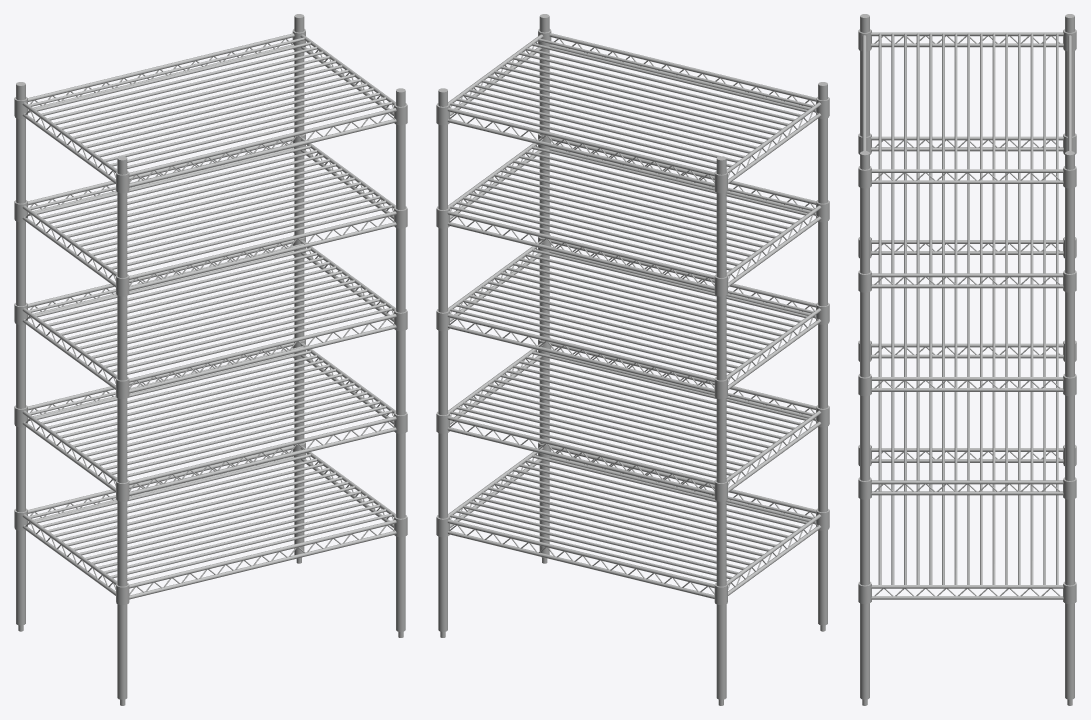
The model's file is Prop_Shelf_Metal_Storage.fbx.
The picture shows the model from 3 angles, left to right: view 1: azimuth 30°, elevation 25°; view 2: azimuth 150°, elevation 25°; view 3: azimuth 270°, elevation 25°; orthographic projection.
Visible parts, largest first — view 1: Prop_Shelf_Metal_Storage; view 2: Prop_Shelf_Metal_Storage; view 3: Prop_Shelf_Metal_Storage.
Boxes of the visible parts, x1,y1,x2,y2 form: Prop_Shelf_Metal_Storage: [14, 14, 407, 705]; Prop_Shelf_Metal_Storage: [436, 14, 829, 705]; Prop_Shelf_Metal_Storage: [858, 14, 1076, 705].
Bounding box in the file's own units: 53.4 × 96.17 × 34.54.
